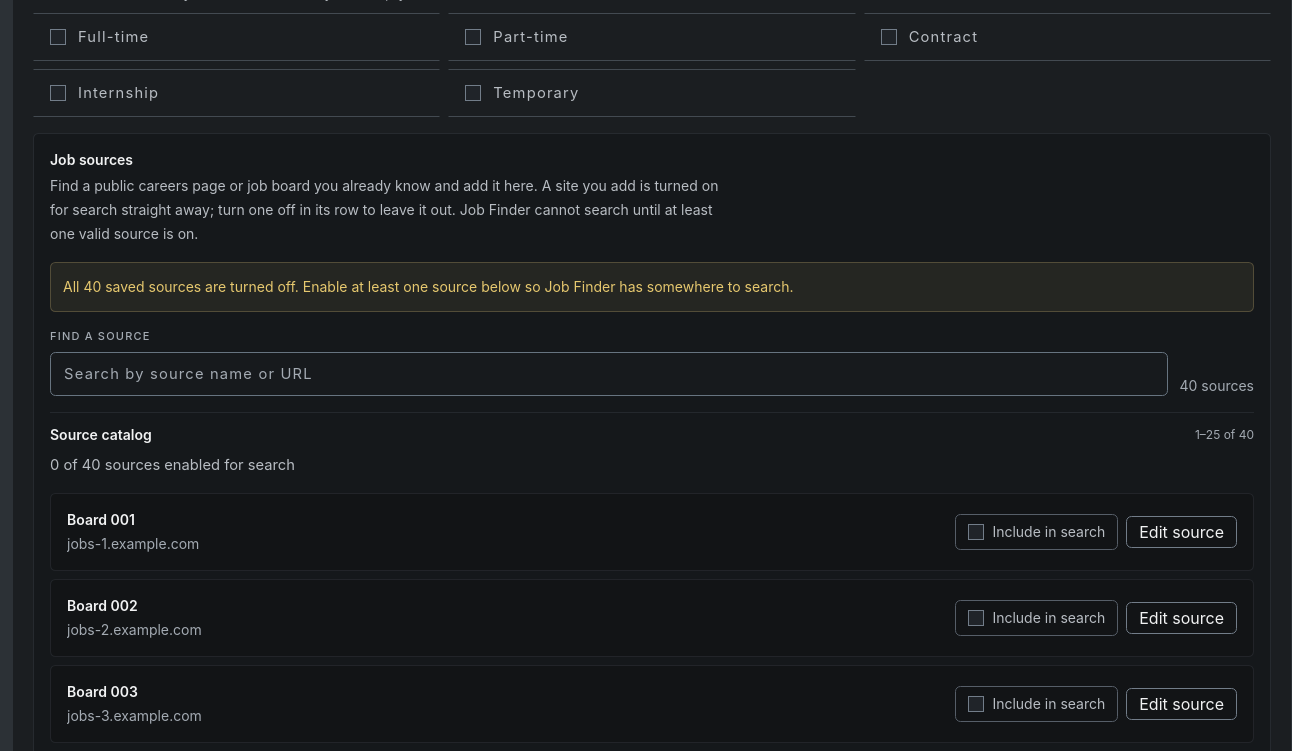
Scenario: ProfileSetupTargetingStep guided source catalog › finds a known catalog entry by search and enables exactly that source explicitly
(page scrolled)
Expected: the text "0 of 40 sources enabled for search" is shown, [50, 456, 295, 474]
Type "mercury" into the search field labelled "Find a source".
click(609, 374); type("mercury")  # box [50, 352, 1168, 396]
(page scrolled)
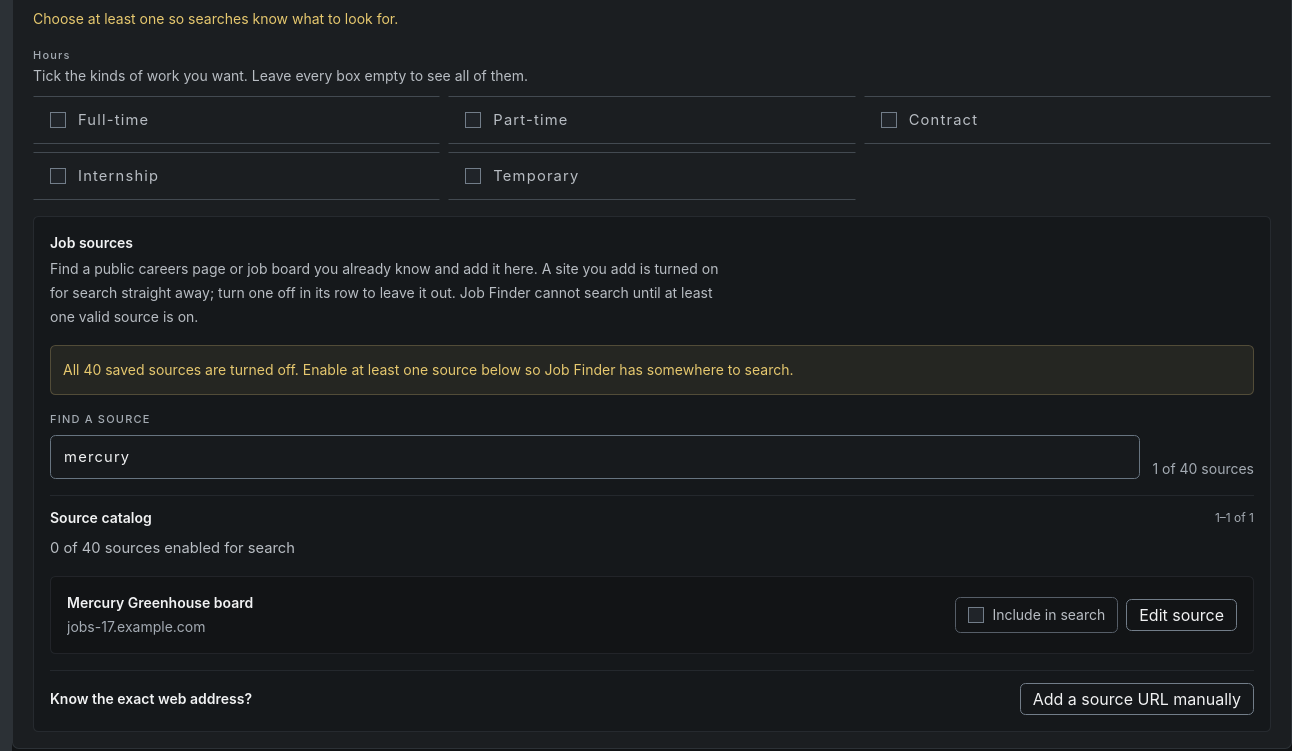
Expected: the text "Mercury Greenhouse board" is shown, [67, 594, 253, 611]
Expected: the text "1 of 40 sources" is shown, [1152, 459, 1254, 479]
Click the checkbox named "Include Mercury Greenhouse board in searches".
click(976, 615)  # box [968, 607, 984, 623]
(page scrolled)
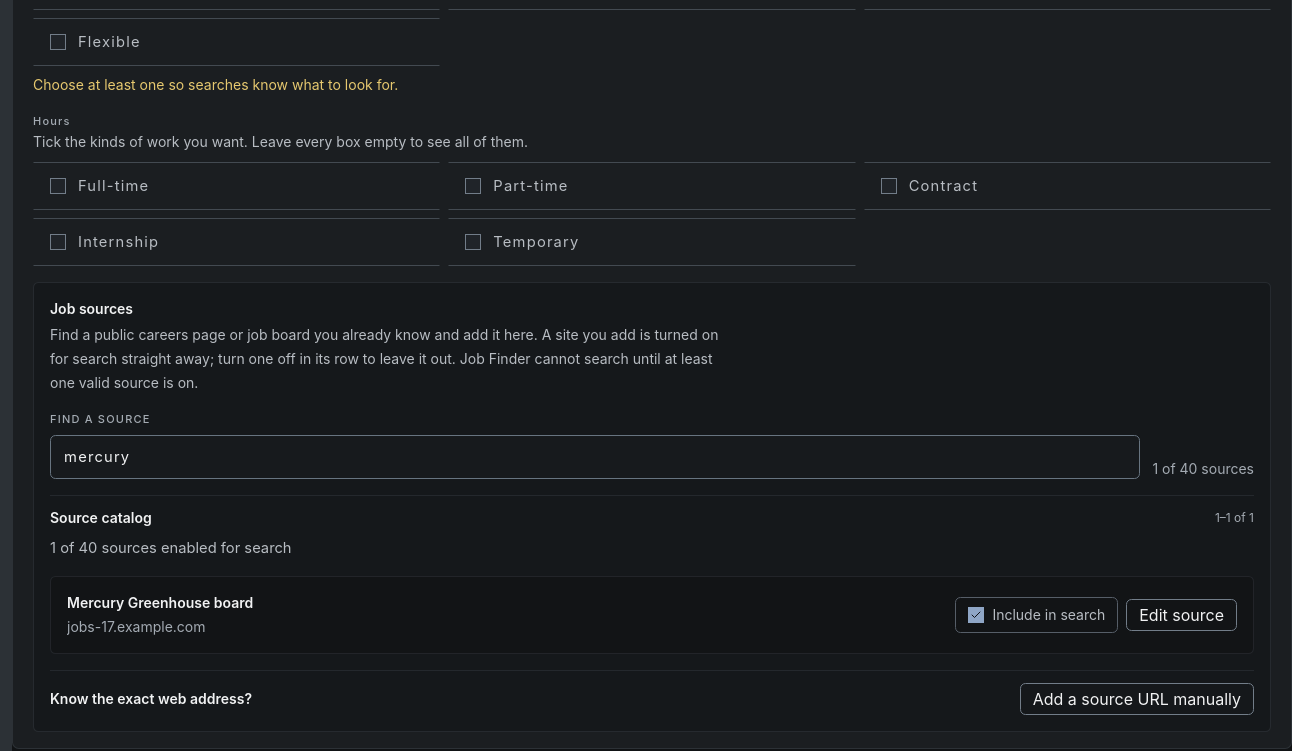
Expected: the text "1 of 40 sources enabled for search" is shown, [50, 539, 292, 557]
